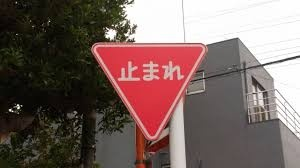Regulatory_sign_triangle: (89, 42, 216, 139)
